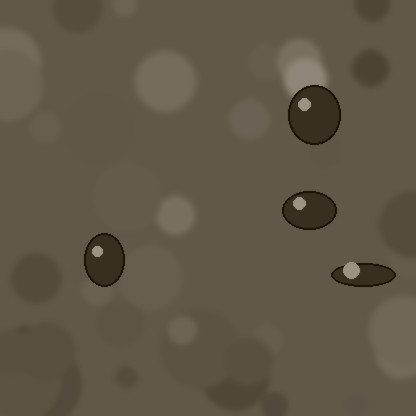gota: (288, 87, 340, 149), (84, 235, 124, 291), (282, 192, 336, 232), (331, 264, 395, 288)
